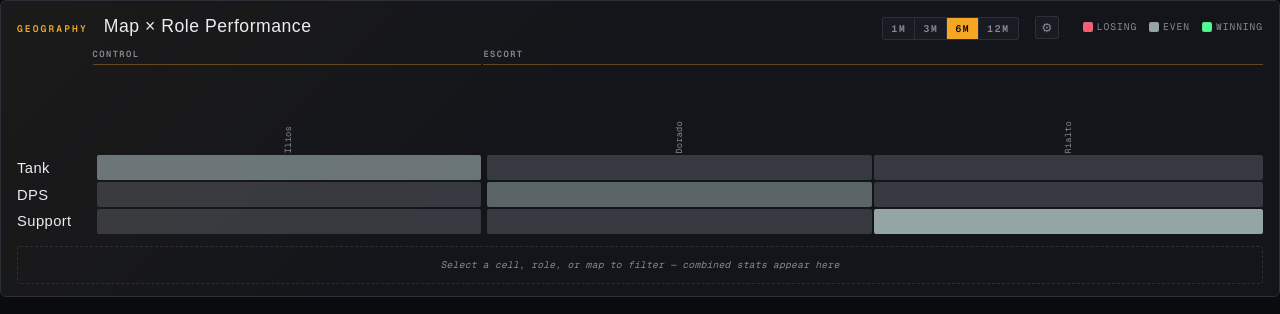
MatchMapRoleBand › clicking the selected cell again clears it (click off)
Press the mouse on the button named "Support on Rialto" at (1069, 221), box [874, 209, 1263, 234]
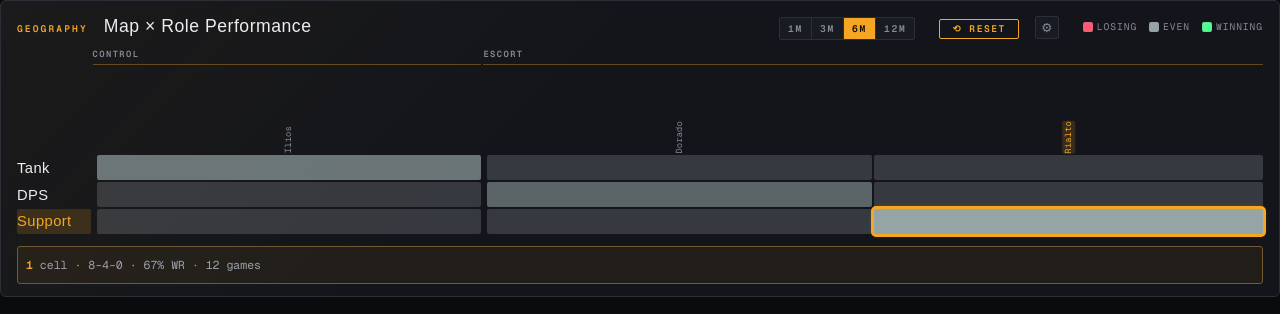
Press the mouse on the button named "Support on Rialto" at (1069, 221), box [874, 209, 1263, 234]
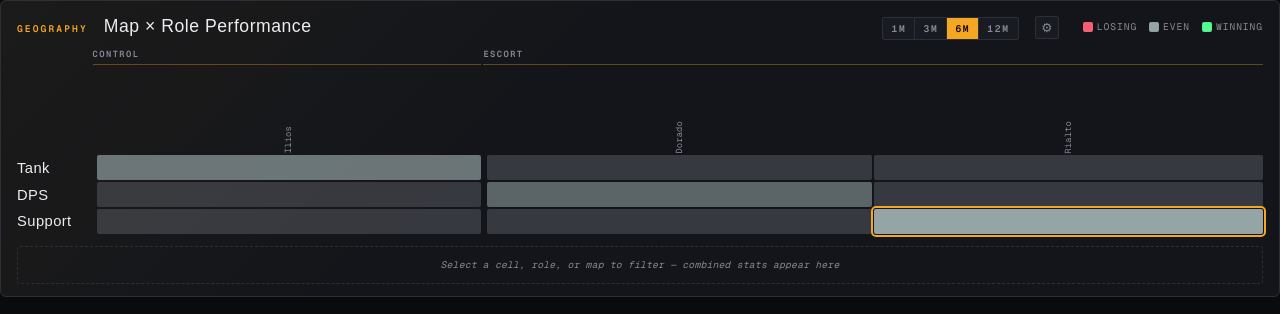
expect the text "combined stats appear here" is shown: met, box [440, 258, 839, 271]
